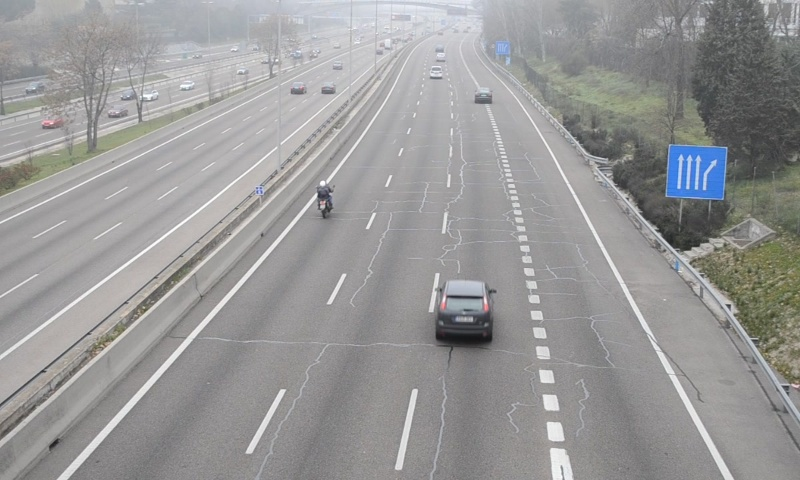car: (436, 280, 494, 340), (474, 88, 491, 103), (430, 66, 443, 79)
motorcycle: (315, 180, 334, 217)
